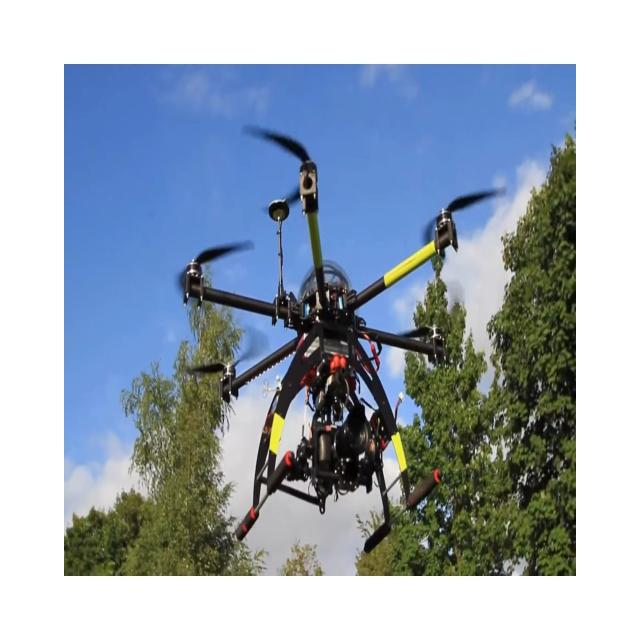drone: (180, 122, 507, 554)
